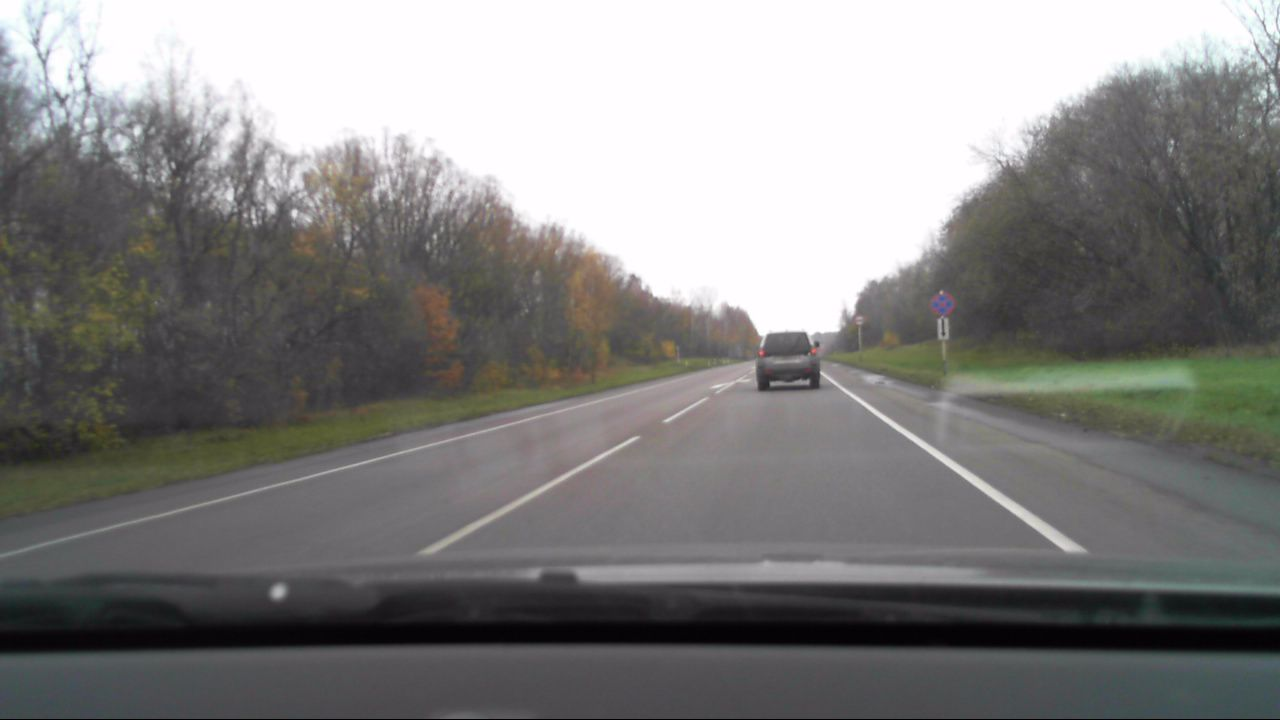No Parking: (925, 290, 953, 315)
